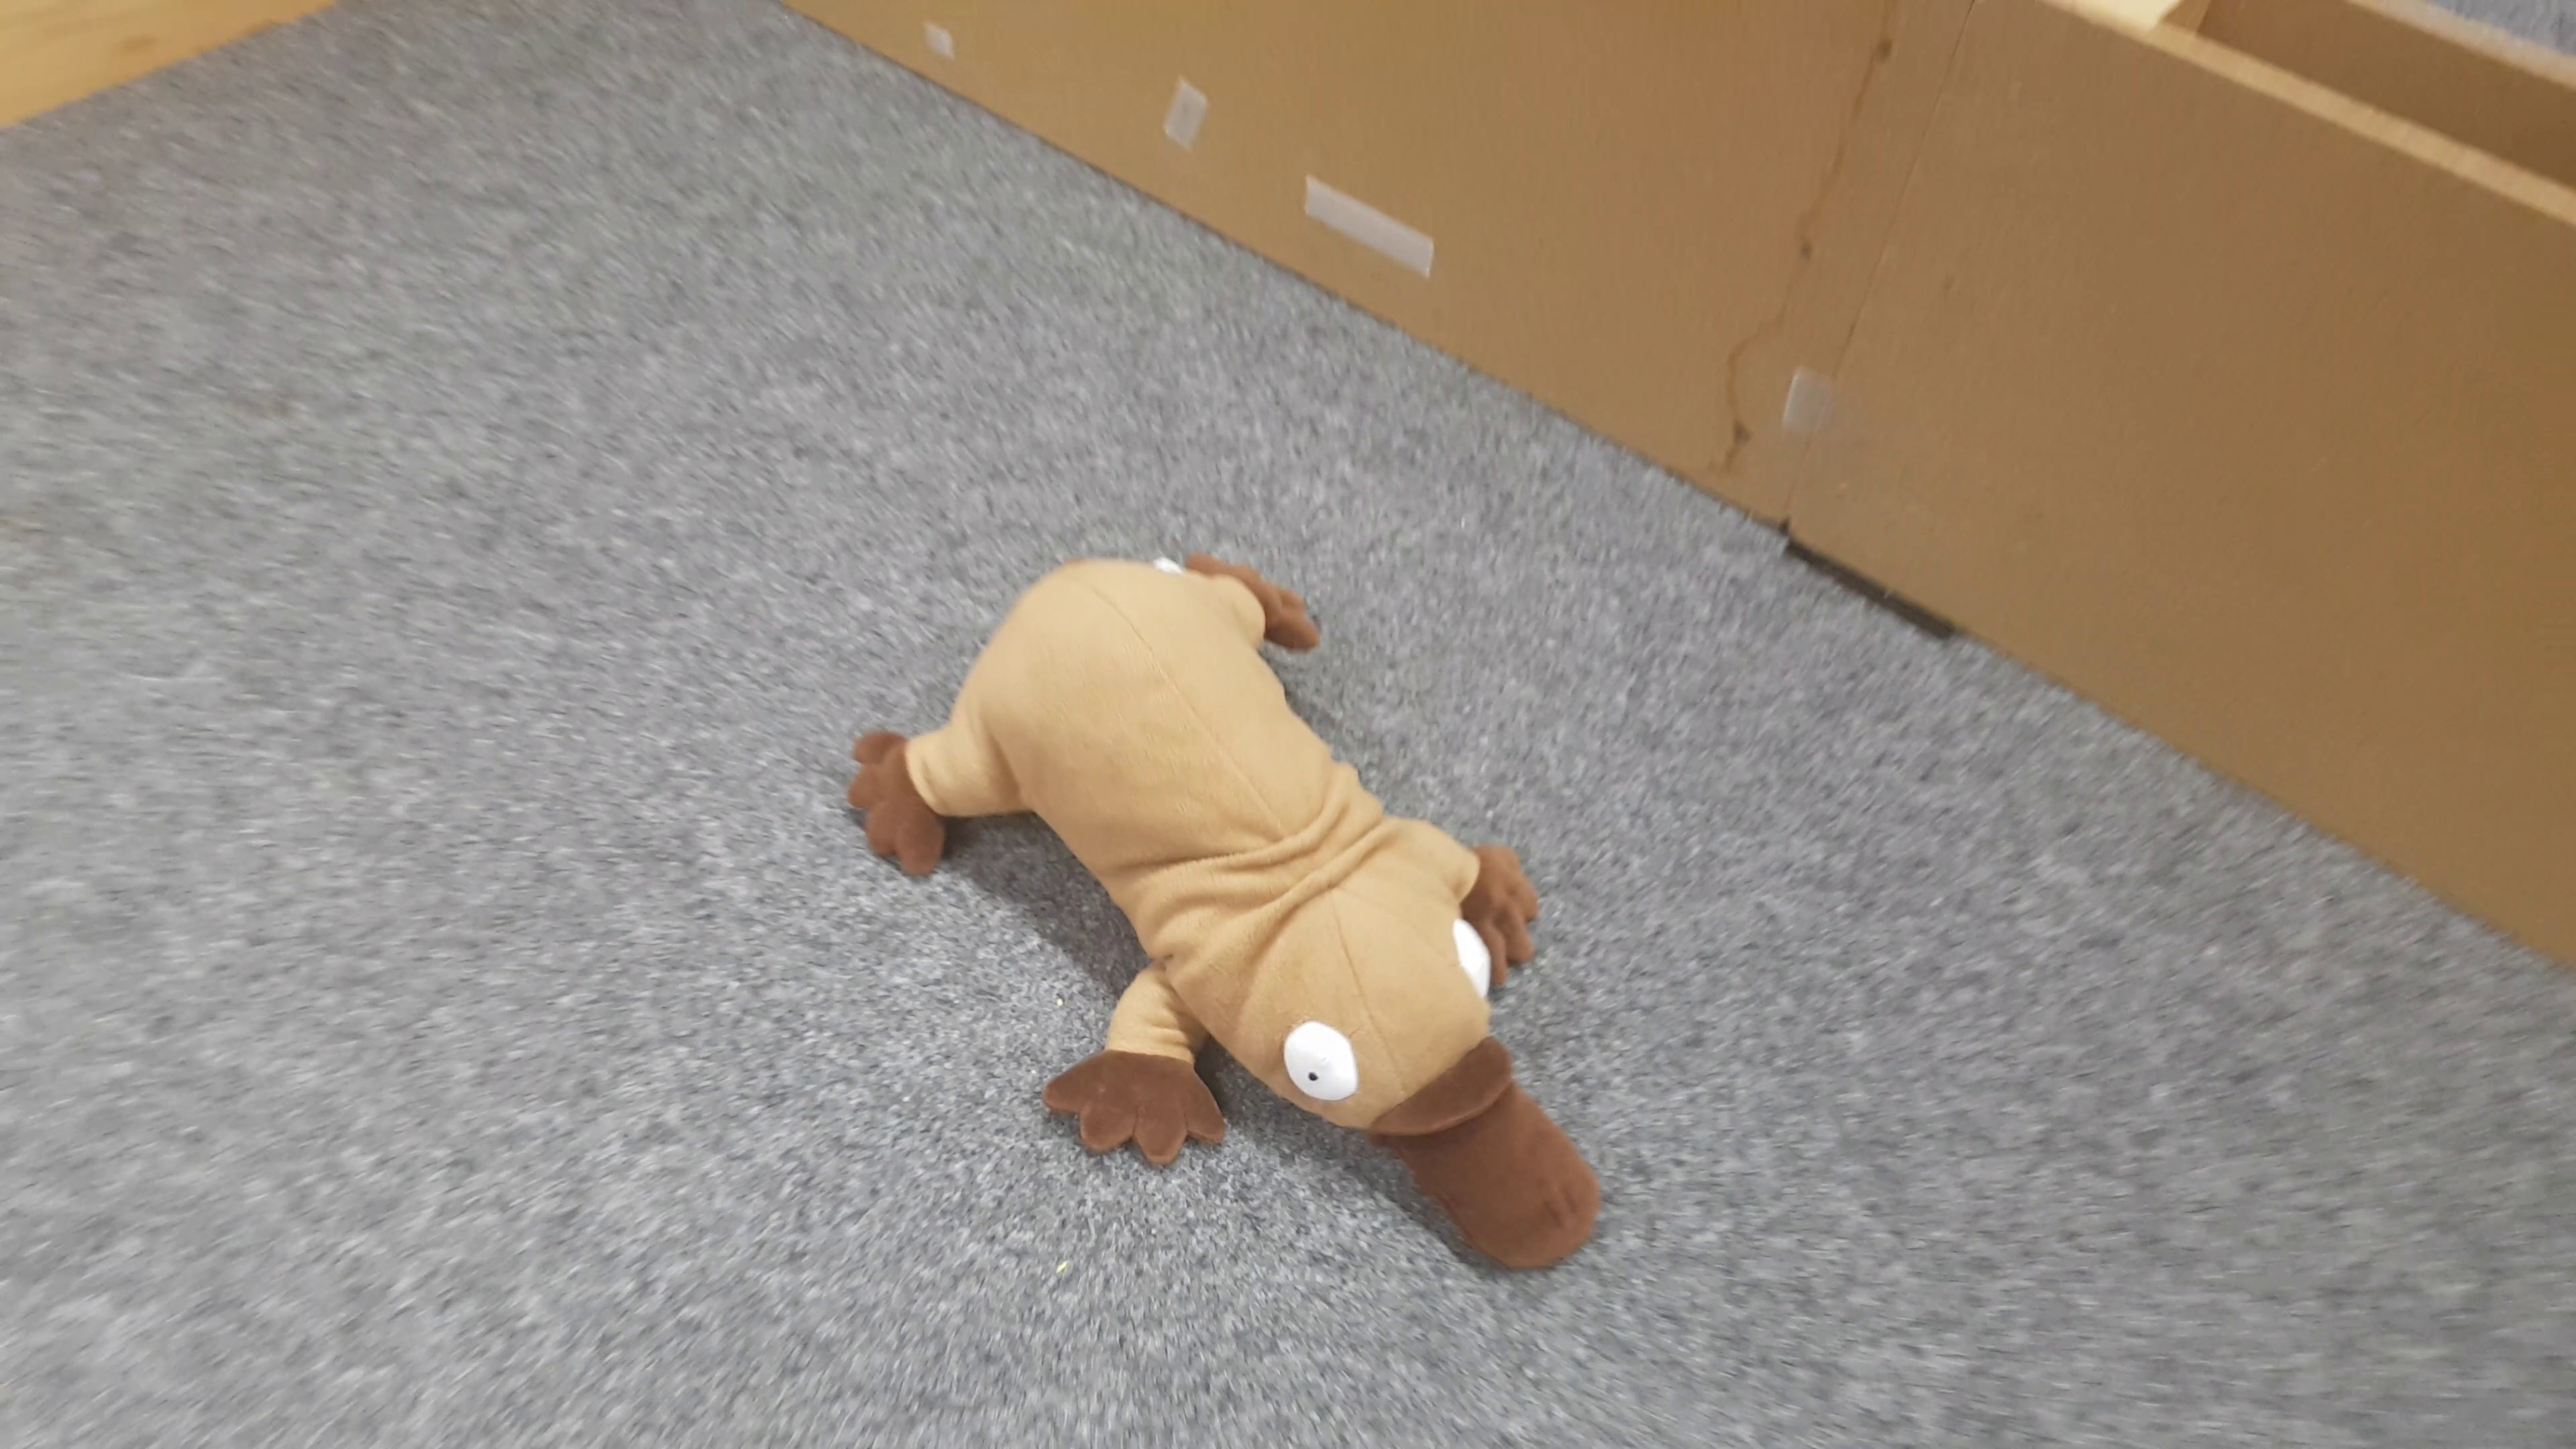grasp: (847, 552, 1603, 1269)
